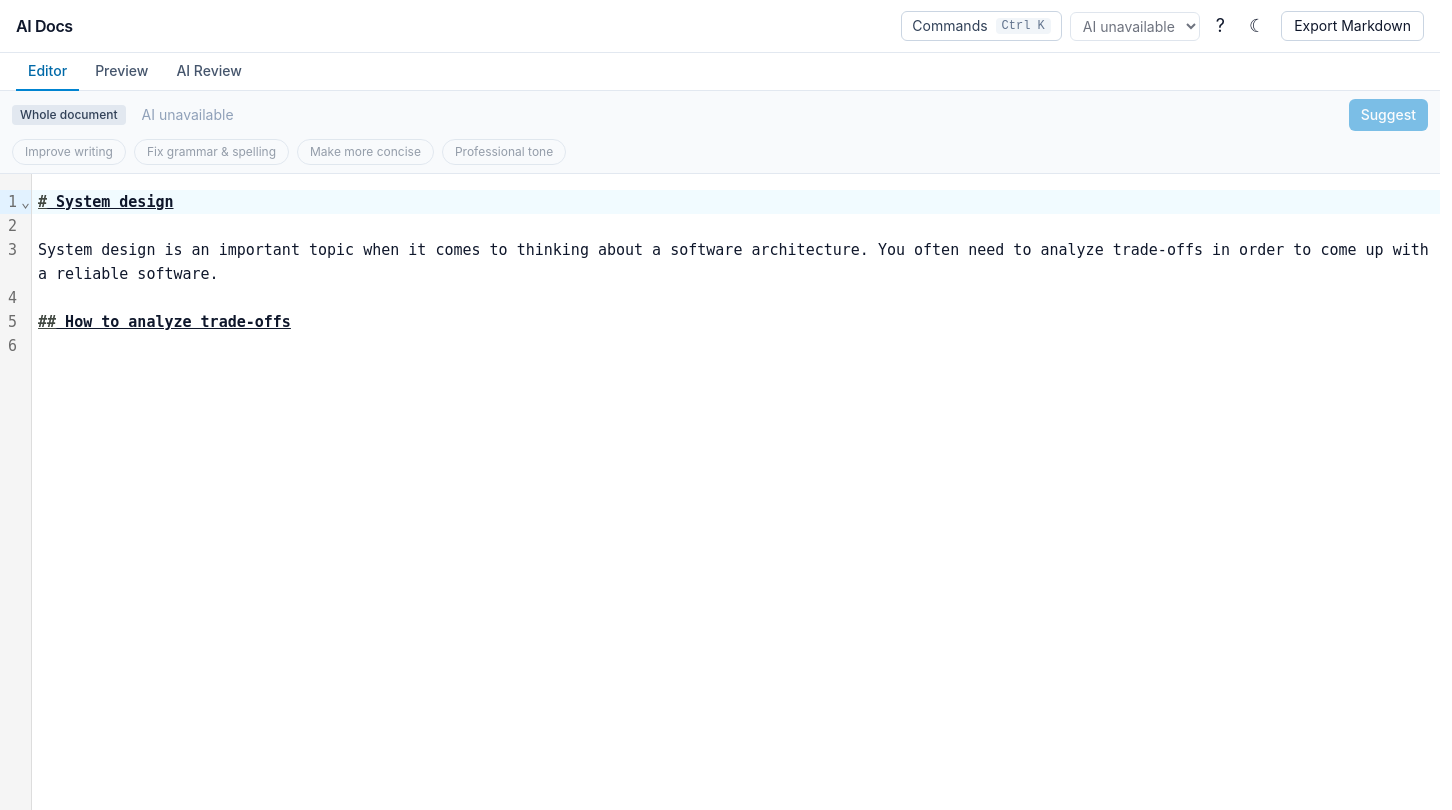
it: App › shows the empty AI Review panel
The width and height of the screenshot is (1452, 810).
Click the tab "AI Review": coordinates (209, 72) [164, 53, 254, 91]
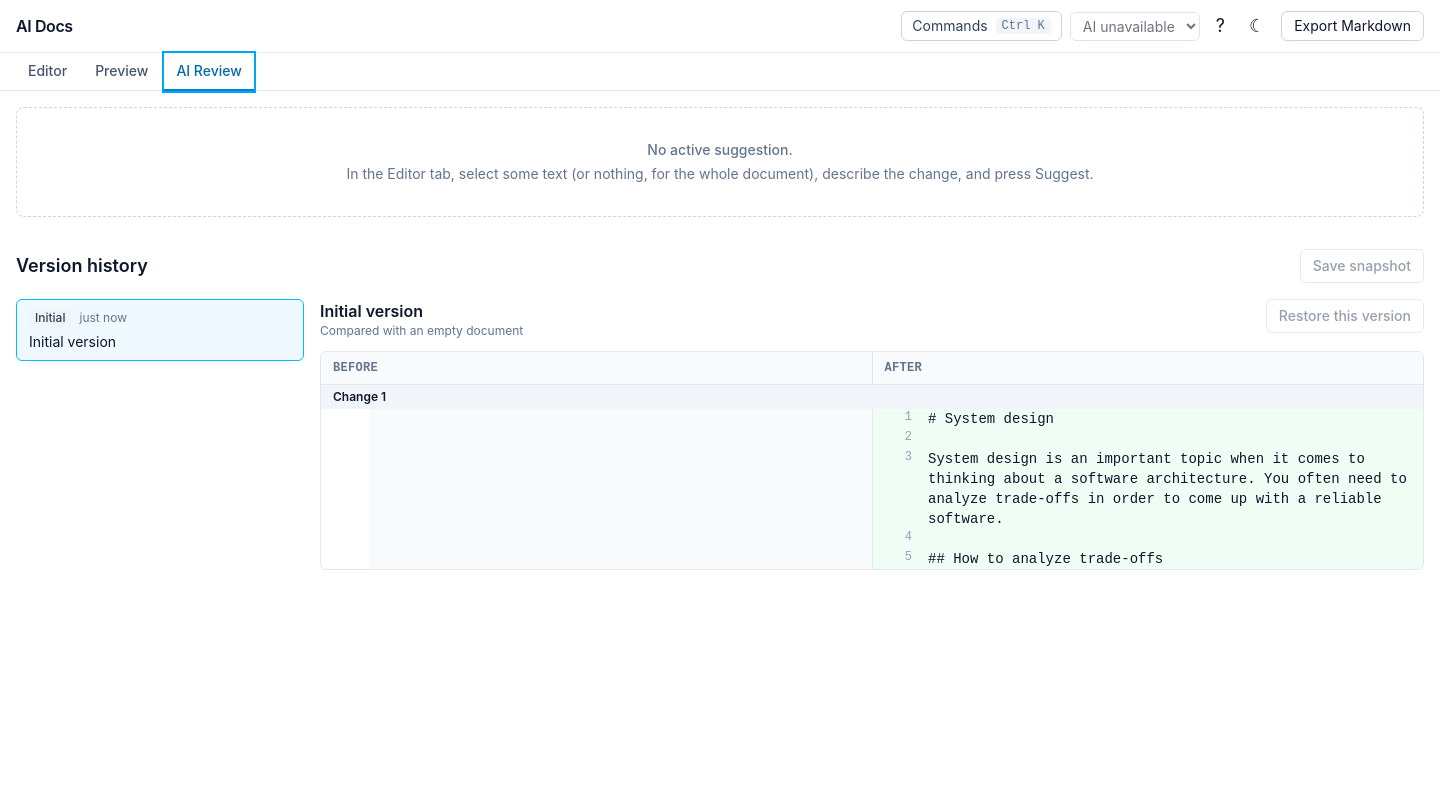
expect the text "No active suggestion." is shown: met, box [647, 141, 793, 158]
